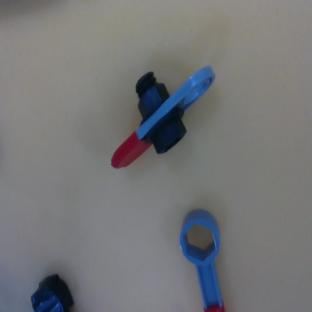part_1_good: (97, 40, 218, 189)
part_3_bad: (31, 274, 74, 311)
part_3_good: (178, 208, 225, 312)
